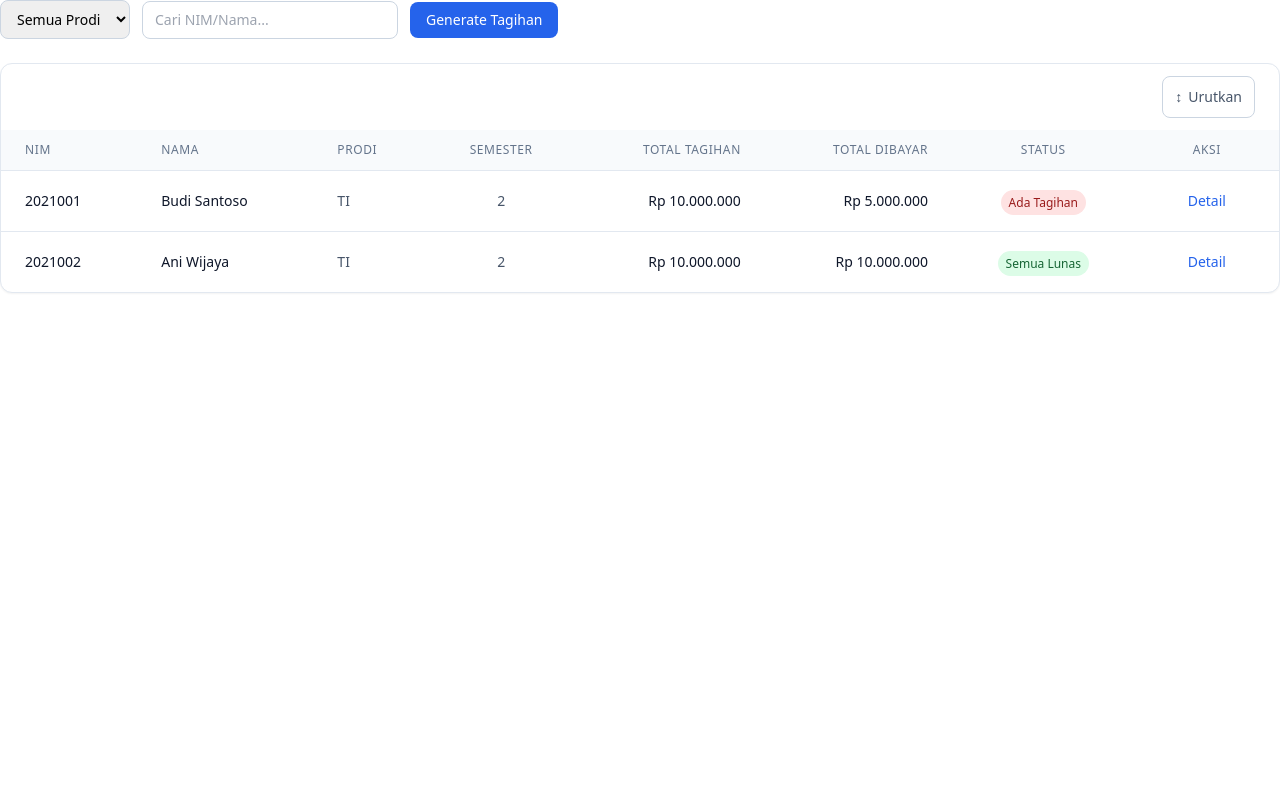
Test: FinancePaymentsPage (grouped) › klik Detail → buka modal dengan daftar tagihan per semester
Check: the text "2021001" is shown, box 1,170 -> 137,232
Click the button "Detail" in the row of "2021001".
click(1207, 201)  # box 1176,187 -> 1238,215
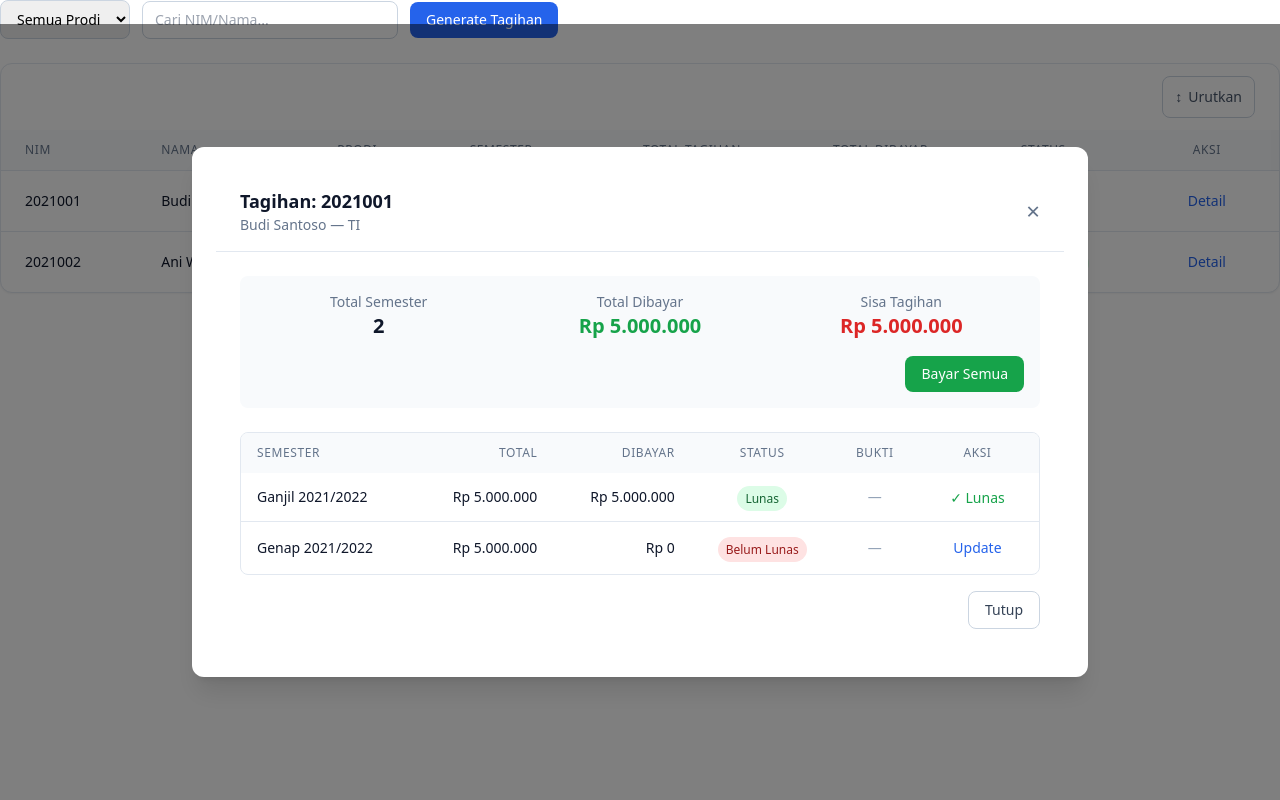
Check: the text "Ganjil 2021/2022" is shown, box 241,473 -> 416,522
Check: the text "Genap 2021/2022" is shown, box 241,522 -> 416,574
